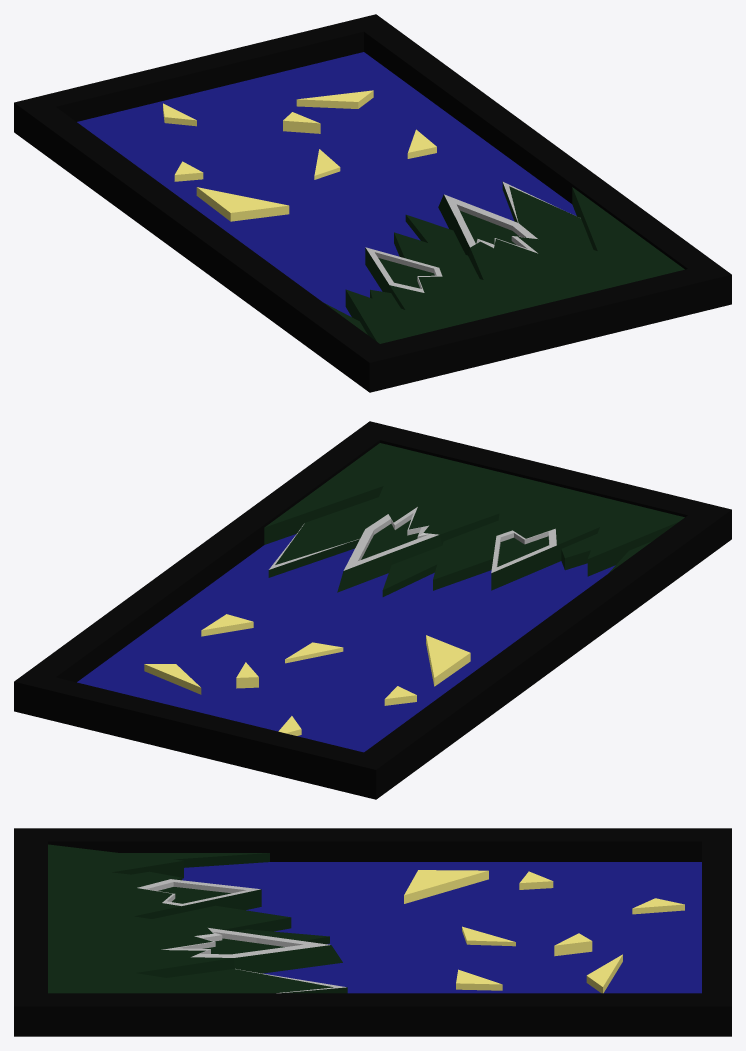
File: poster_low_poly.glb
3 views of the same model, one above another, from view 1: azimuth 30°, elevation 25°; view 2: azimuth 150°, elevation 25°; view 3: azimuth 270°, elevation 25° (orthographic).
Visible parts, largest first — view 1: Cube_0; view 2: Cube_0; view 3: Cube_0.
Part boxes in pixels (left/top/right/bottom): Cube_0: left=14, top=14, right=731, bottom=392; Cube_0: left=14, top=421, right=731, bottom=799; Cube_0: left=14, top=828, right=731, bottom=1036.
Size of the model in its own units: 2 by 0.1572 by 3.4.
